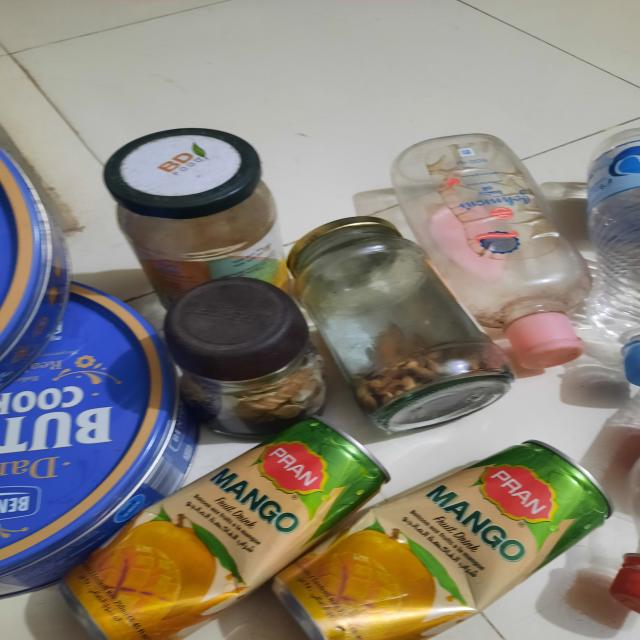Glass: (170, 208, 468, 443)
Plastics: (435, 114, 640, 464)
can: (83, 443, 611, 640), (0, 154, 154, 544)
